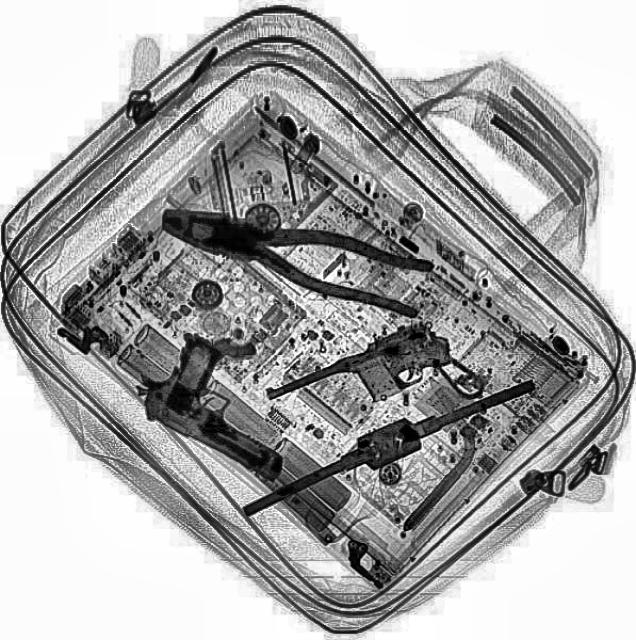Gun: (262, 305, 490, 473), (121, 320, 324, 484)
Pliers: (153, 188, 437, 318)
